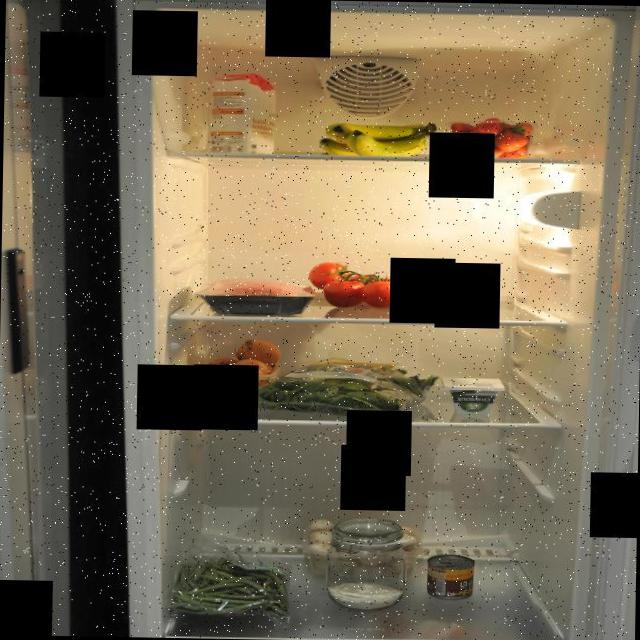Carne vacuno: (193, 276, 320, 317)
Cebolla: (185, 338, 282, 407)
Champiñones: (300, 520, 420, 572)
Gambas/Langostinos: (413, 293, 489, 316)
Plátano: (314, 120, 439, 156)
Queso: (440, 376, 508, 414)
Tomate: (307, 258, 412, 308)
corn: (426, 554, 475, 600)
flour: (321, 510, 417, 610)
green_beans: (164, 549, 298, 628)
spinach: (244, 354, 441, 420)
strawberries: (446, 116, 537, 162)
sugar: (206, 70, 277, 154)
